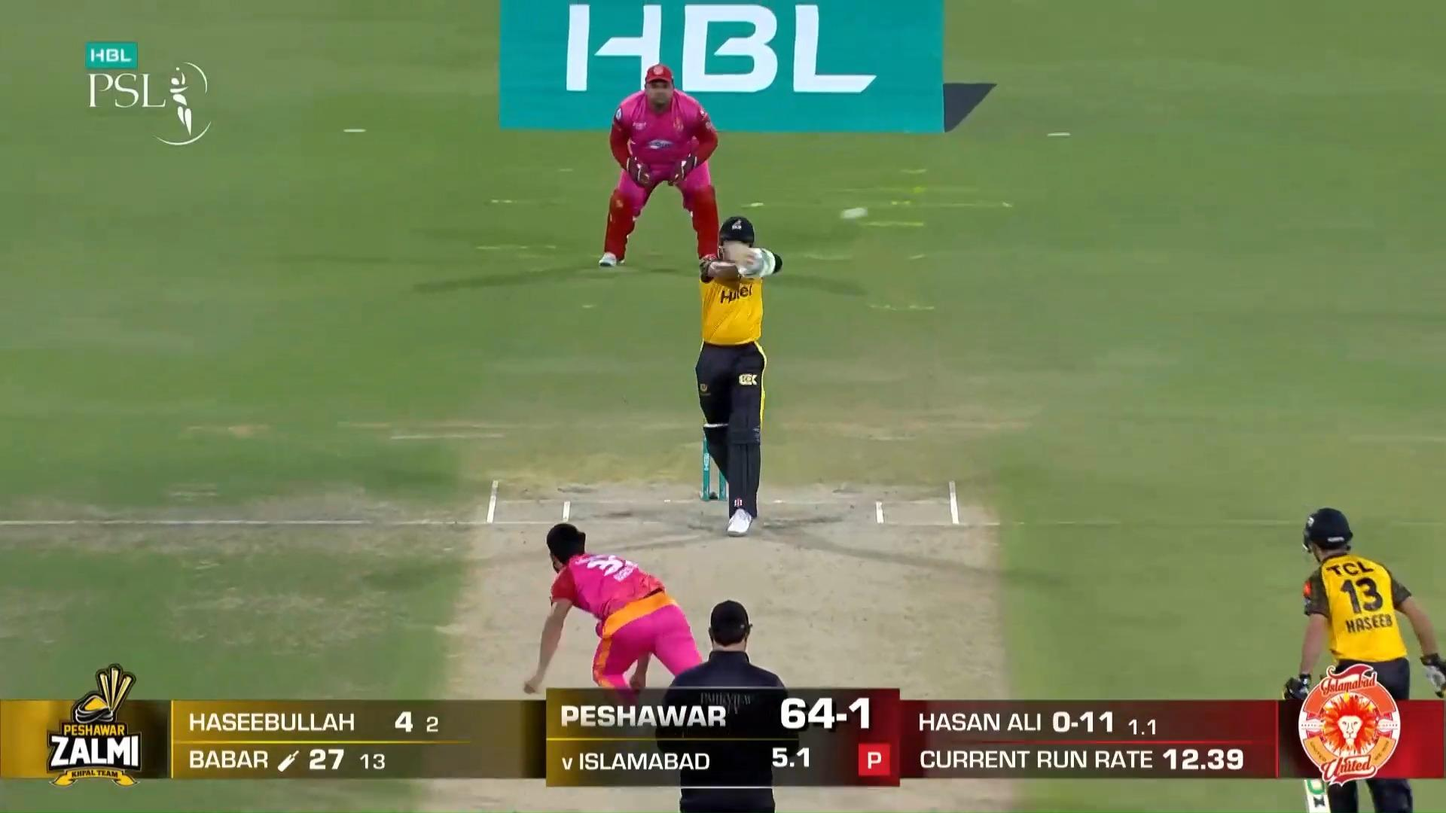batsman: (695, 216, 783, 537)
